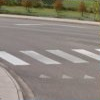crosswalk: (0, 48, 99, 65)
